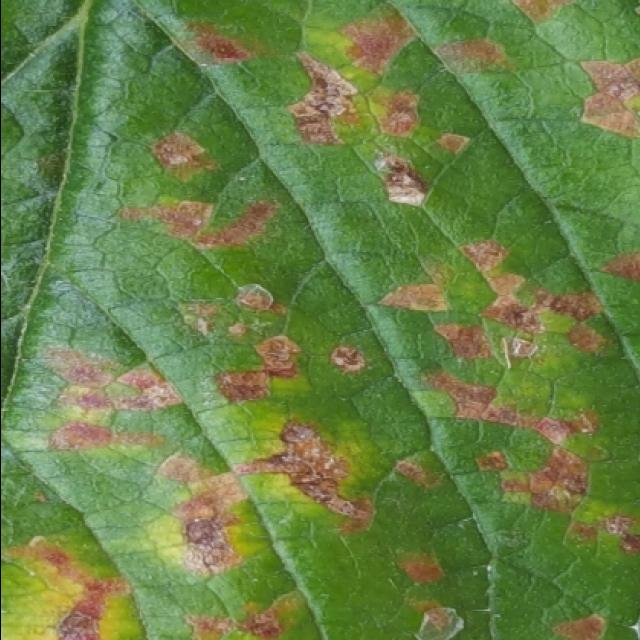Angular Leafspot: (2, 0, 640, 638)
